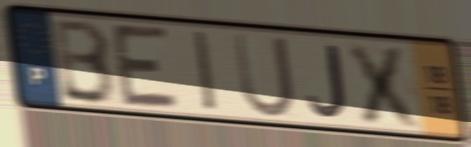B: (53, 17, 120, 108)
E: (108, 21, 182, 113)
I: (190, 27, 221, 115)
J: (306, 43, 350, 120)
U: (229, 29, 297, 121)
X: (344, 39, 427, 132)
